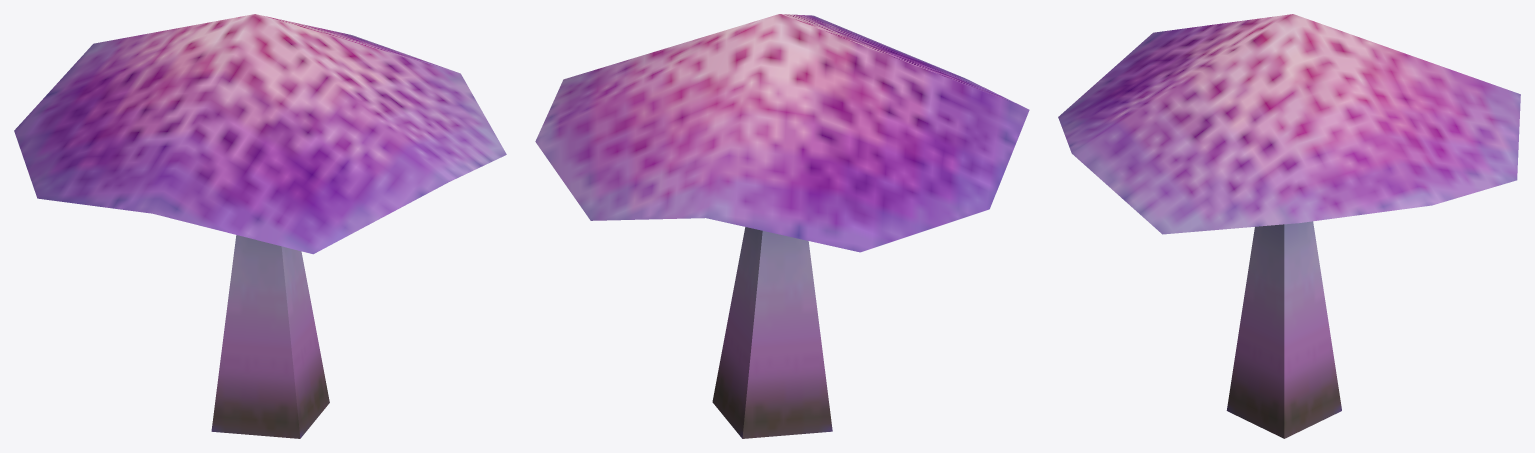
The model's file is 6001_Item_mogu_3.FBX.
3 renders of one model, left to right at view 1: azimuth 30°, elevation 25°; view 2: azimuth 150°, elevation 25°; view 3: azimuth 270°, elevation 25°, orthographic. The views are drawn at different scales.
Visible parts, largest first — view 1: 6001_Item_mogu_3; view 2: 6001_Item_mogu_3; view 3: 6001_Item_mogu_3.
Part boxes in pixels (x1,y1,x2,y2): 6001_Item_mogu_3: [14, 14, 506, 438]; 6001_Item_mogu_3: [535, 14, 1029, 438]; 6001_Item_mogu_3: [1058, 14, 1520, 438].
Bounding box in the file's own units: 612 × 559 × 598.
